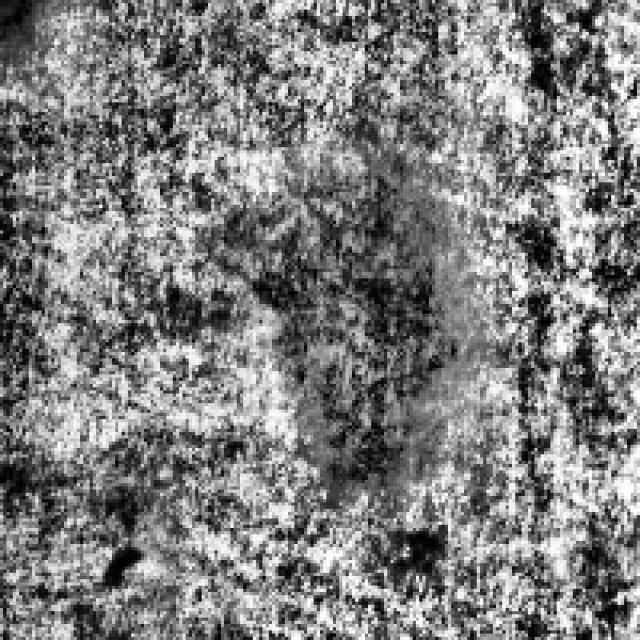Scratches: (230, 144, 460, 499)
